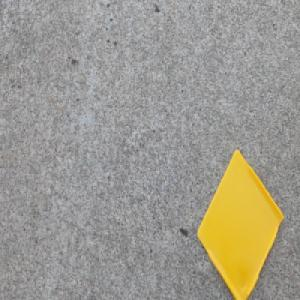PlasticPart: (196, 148, 285, 300)
